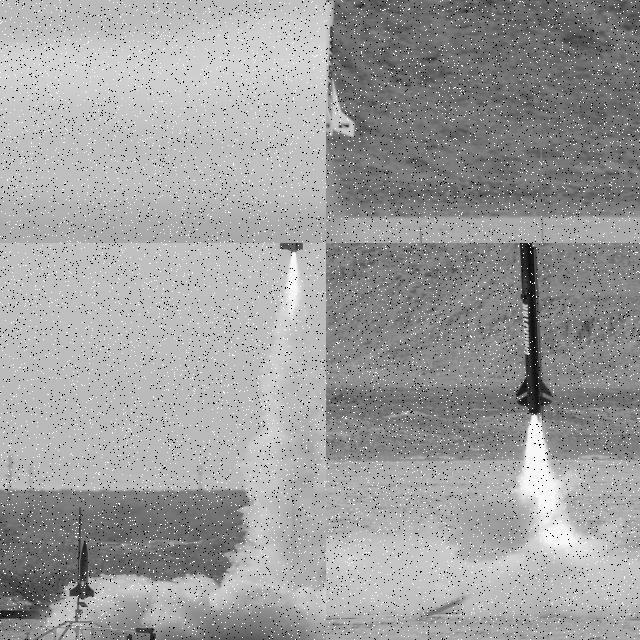Rocket: (513, 243, 555, 416), (326, 0, 356, 140), (70, 539, 95, 600)
